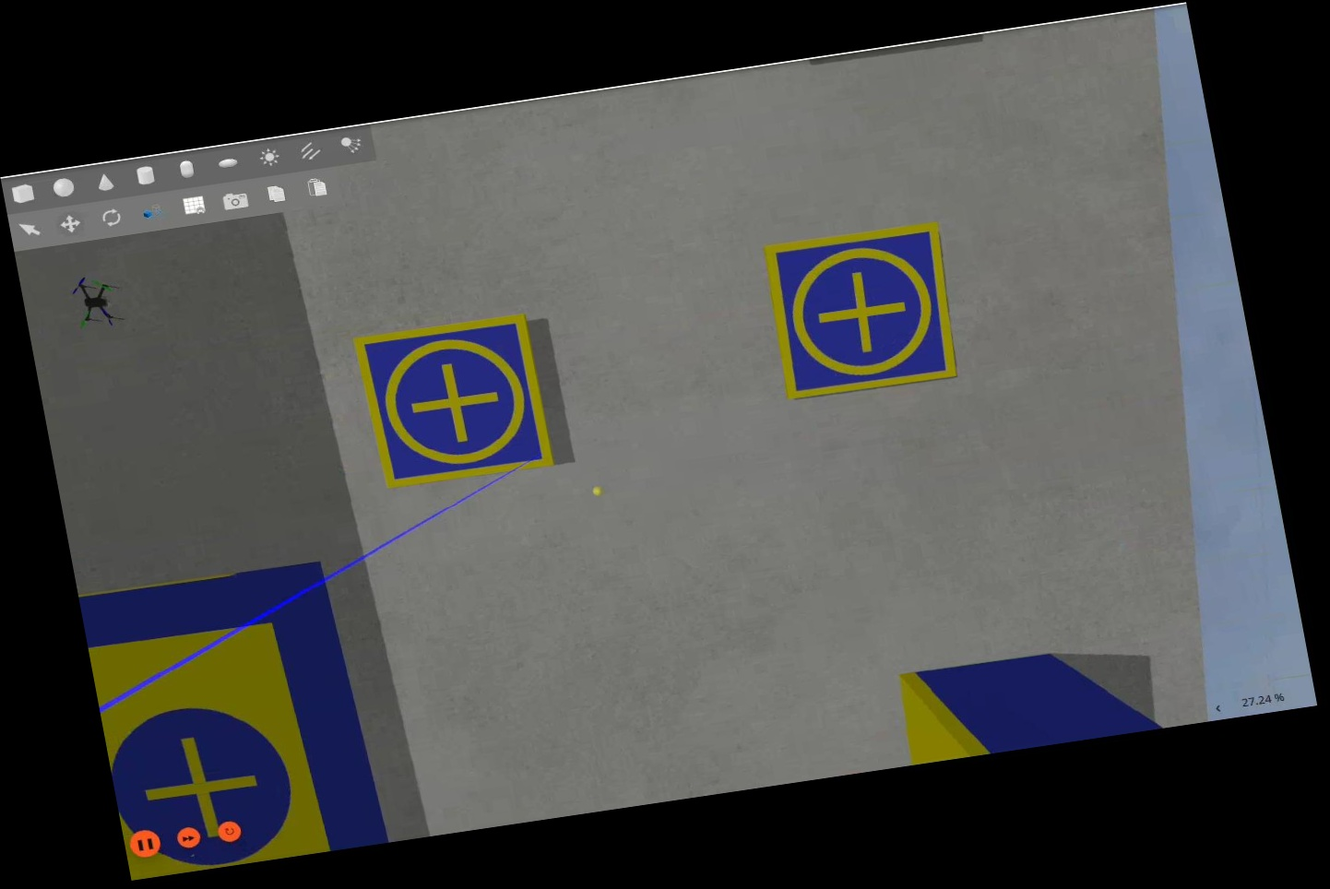large_base: (77, 555, 385, 888)
small_base: (755, 216, 968, 407), (347, 307, 560, 495)
